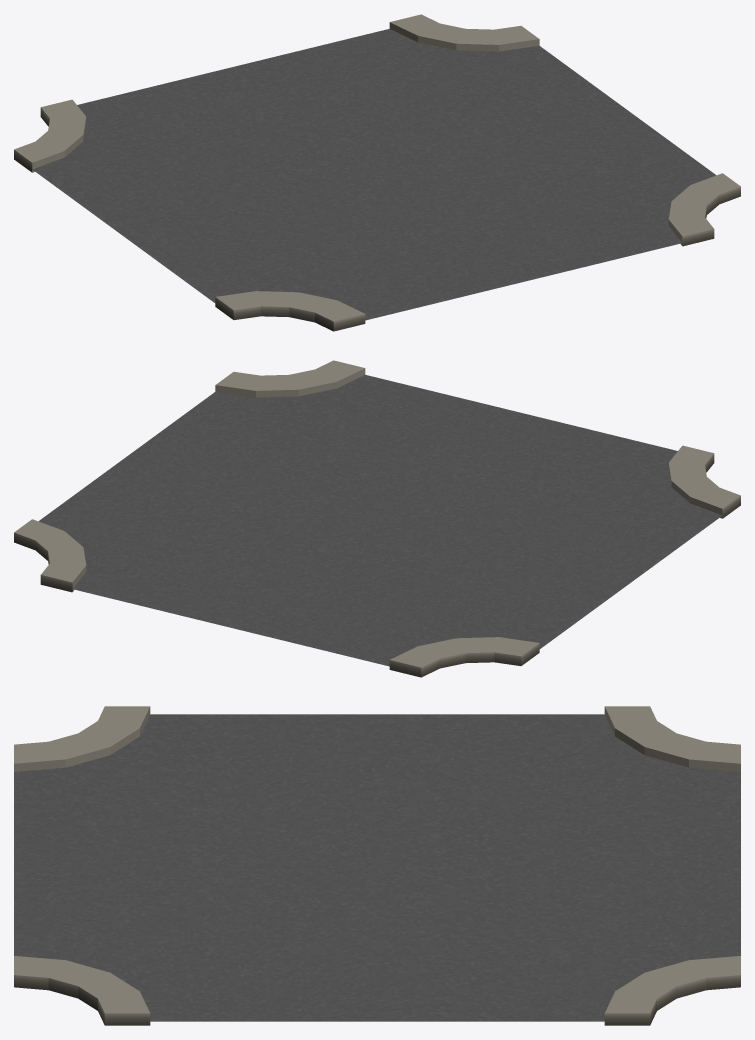
3 renders of one model, top to bottom at view 1: azimuth 30°, elevation 25°; view 2: azimuth 150°, elevation 25°; view 3: azimuth 270°, elevation 25°, orthographic. The views are drawn at different scales.
Parts seen in each view (by area): view 1: Road_1G; view 2: Road_1G; view 3: Road_1G.
Part boxes in pixels (bbox=[...]): Road_1G: bbox=[14, 14, 740, 331]; Road_1G: bbox=[14, 360, 740, 677]; Road_1G: bbox=[14, 706, 740, 1025].
Size of the model in its own units: 19932 by 374 by 19932.
